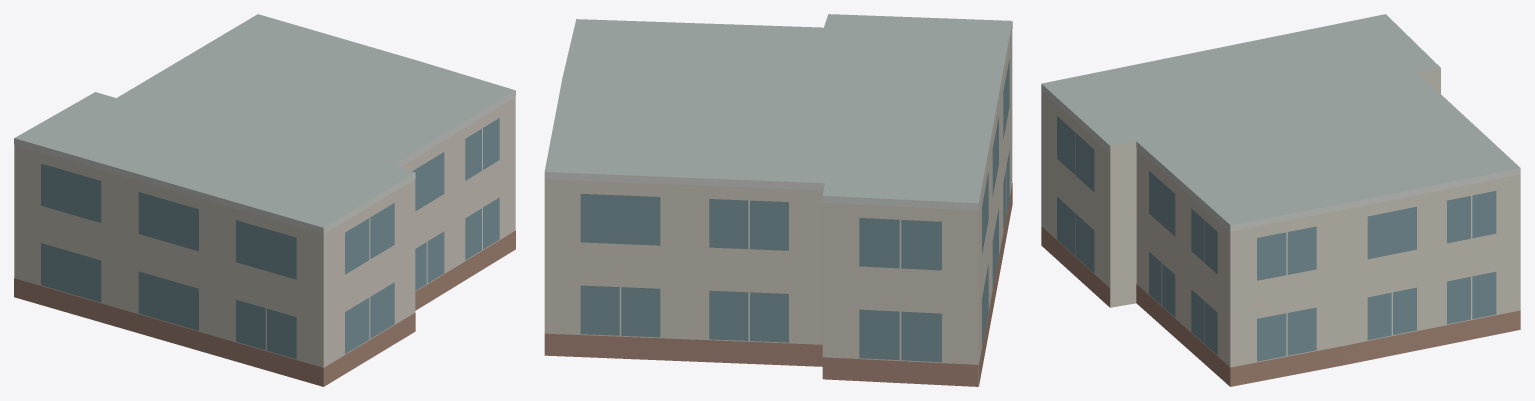
Rendered from survey-upis-32653156.glb.
3 views of the same model, side by side, from view 1: azimuth 30°, elevation 25°; view 2: azimuth 150°, elevation 25°; view 3: azimuth 270°, elevation 25° (orthographic). The views are drawn at different scales.
Visible parts, largest first — view 1: survey-upis-32653156.tmp; view 2: survey-upis-32653156.tmp; view 3: survey-upis-32653156.tmp.
Part boxes in pixels (x1,y1,x2,y2): survey-upis-32653156.tmp: (14, 14, 515, 386); survey-upis-32653156.tmp: (544, 14, 1012, 386); survey-upis-32653156.tmp: (1041, 14, 1520, 386).
Bounding box in the file's own units: 17.07 × 6.1 × 16.39.
